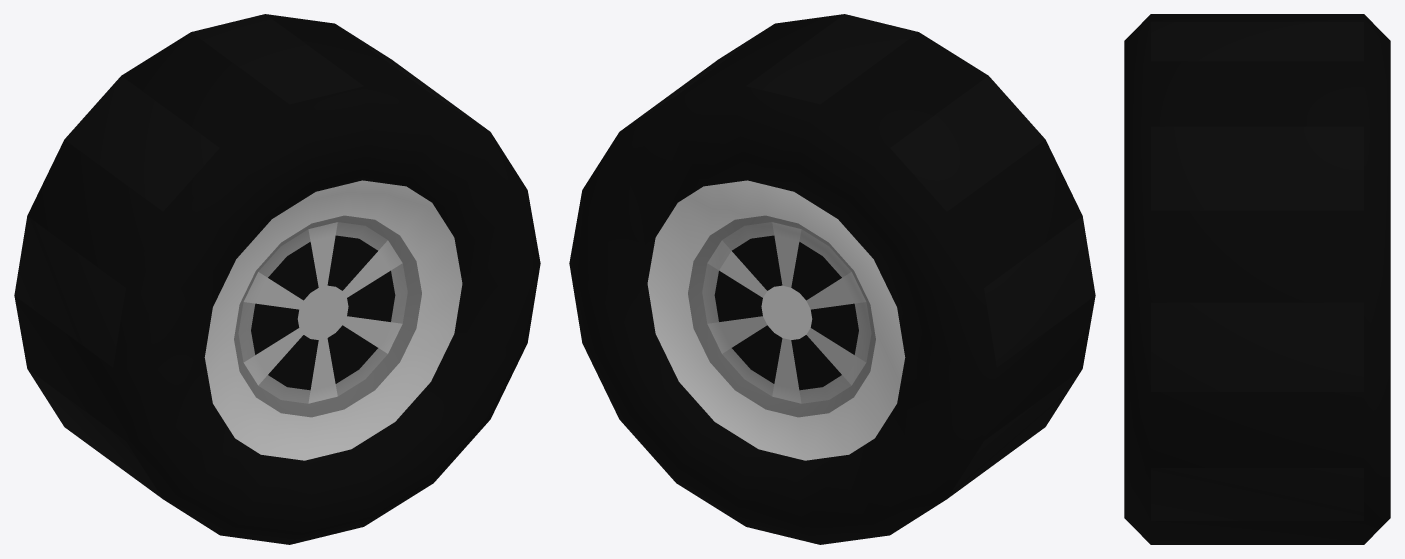
File: wheel.glb
3 renders of one model, left to right at view 1: azimuth 30°, elevation 25°; view 2: azimuth 150°, elevation 25°; view 3: azimuth 270°, elevation 25°, orthographic. The views are drawn at different scales.
Parts seen in each view (by area): view 1: car_wheel; view 2: car_wheel; view 3: car_wheel.
Part boxes in pixels (x1,y1,x2,y2): car_wheel: [14, 14, 540, 544]; car_wheel: [569, 14, 1095, 544]; car_wheel: [1124, 14, 1390, 544].
Size of the model in its own units: 0.8 by 0.7878 by 0.4.
1 material, 1 textured.
